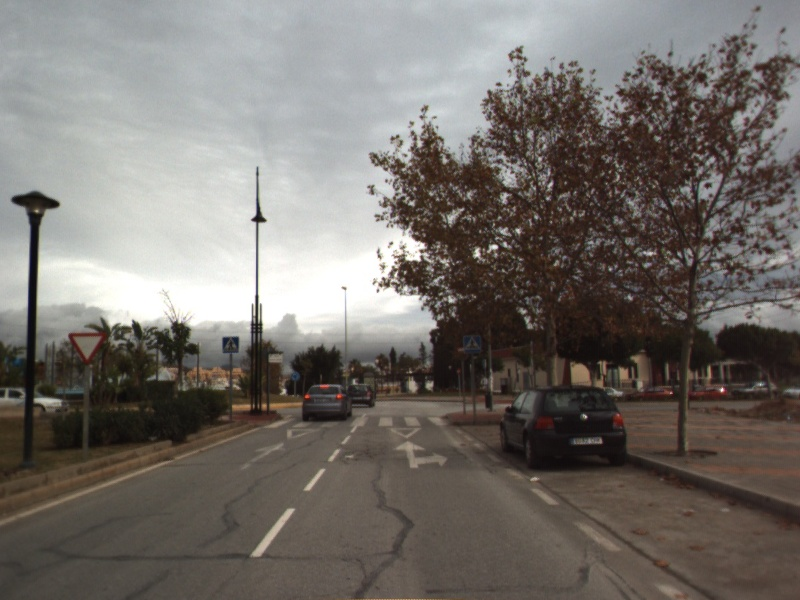STRAIGHT: (238, 440, 288, 472)
STRAIGHT_RIGHT: (391, 439, 450, 470)
